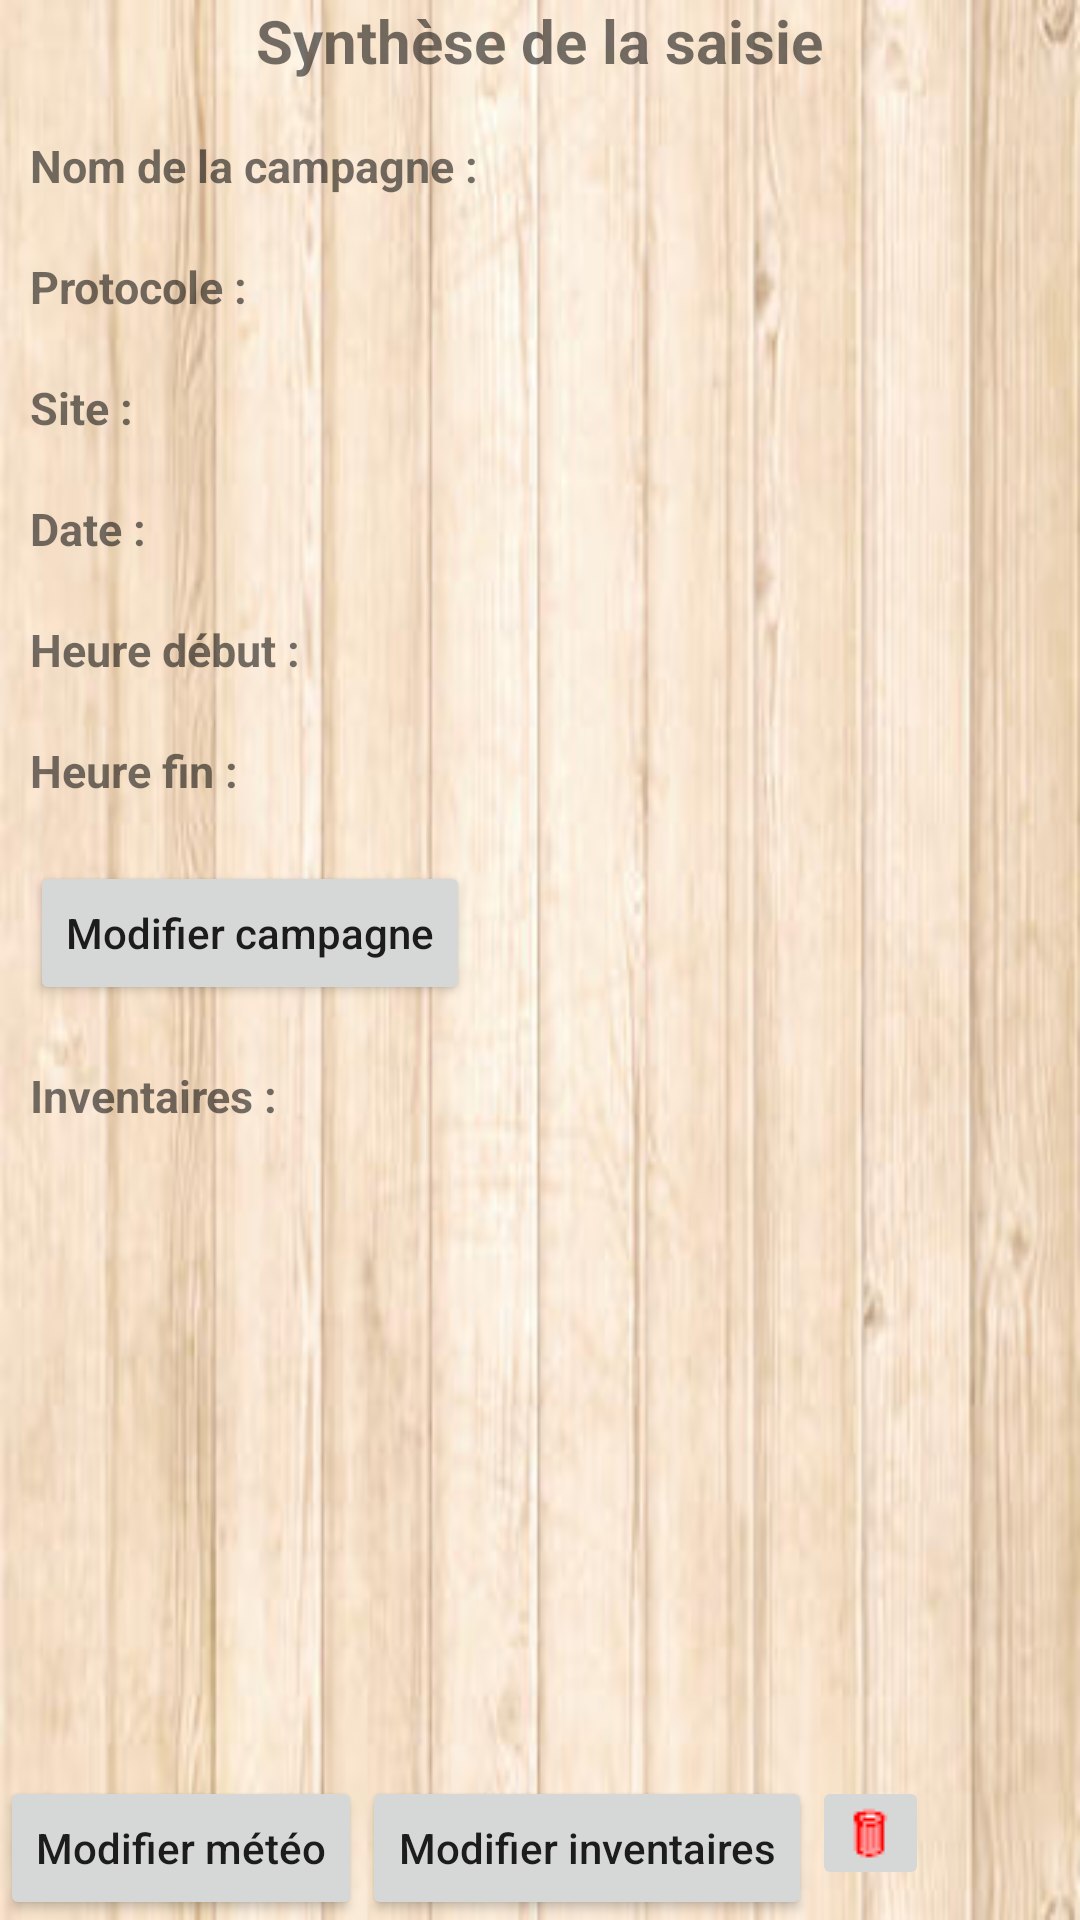

Named icons in this screenshot (1080px×1920px) and their centers, [x,y]:
delete: [870,1833]
